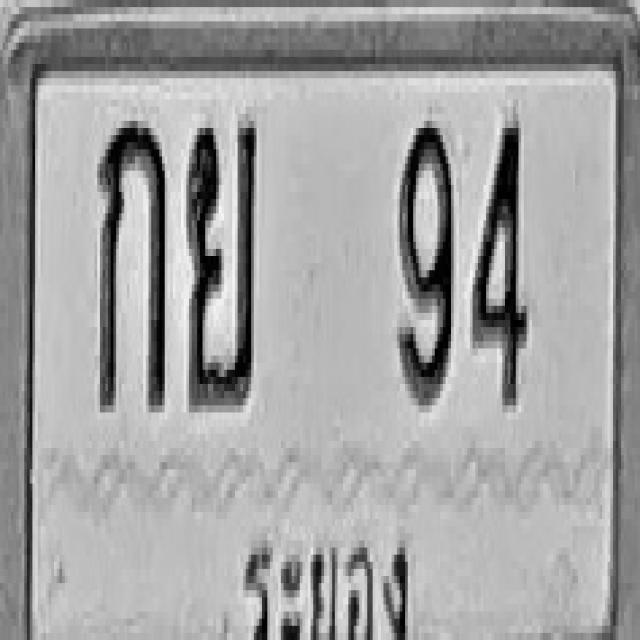10GorGai: (97, 114, 165, 412)
4: (471, 114, 528, 405)
43YorYak: (186, 114, 256, 405)
9: (398, 117, 452, 402)
Rayong: (235, 505, 416, 640)
